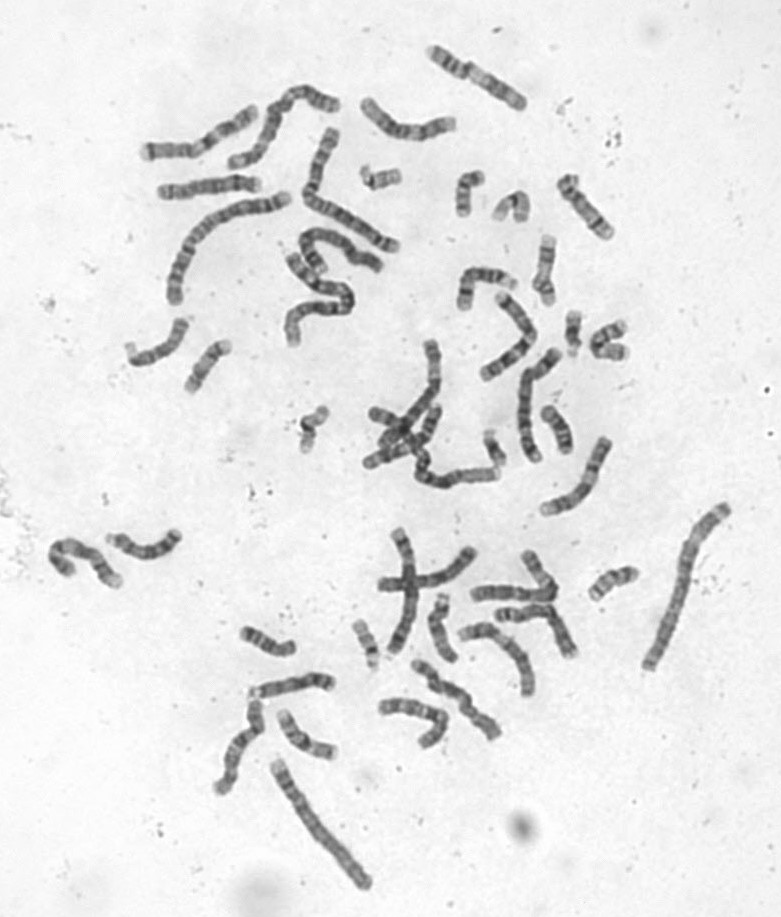chromosomes: (635, 501, 737, 678), (165, 188, 300, 309), (267, 751, 377, 892), (300, 124, 403, 257), (365, 406, 504, 493), (223, 83, 342, 176), (409, 654, 508, 748), (134, 103, 266, 167), (420, 44, 534, 117), (279, 254, 361, 353), (377, 336, 445, 451), (202, 700, 271, 802), (453, 618, 540, 698), (536, 434, 615, 520), (463, 544, 565, 608), (491, 601, 587, 666), (515, 343, 565, 467), (356, 405, 447, 473), (297, 226, 396, 286), (477, 292, 540, 385), (366, 545, 484, 594), (43, 534, 127, 601), (360, 92, 462, 147), (381, 522, 419, 661), (370, 690, 450, 753), (124, 311, 201, 374), (551, 171, 619, 242), (276, 703, 349, 769), (448, 263, 523, 321), (145, 172, 272, 205), (178, 337, 236, 400), (424, 593, 467, 673), (100, 526, 188, 563), (247, 670, 347, 701), (529, 228, 565, 308), (236, 622, 303, 661), (295, 404, 339, 460), (587, 562, 644, 603), (450, 166, 491, 222), (591, 317, 638, 364), (539, 403, 576, 458), (492, 186, 536, 232), (352, 617, 384, 673), (559, 306, 590, 361), (353, 162, 403, 195), (481, 427, 512, 469)
